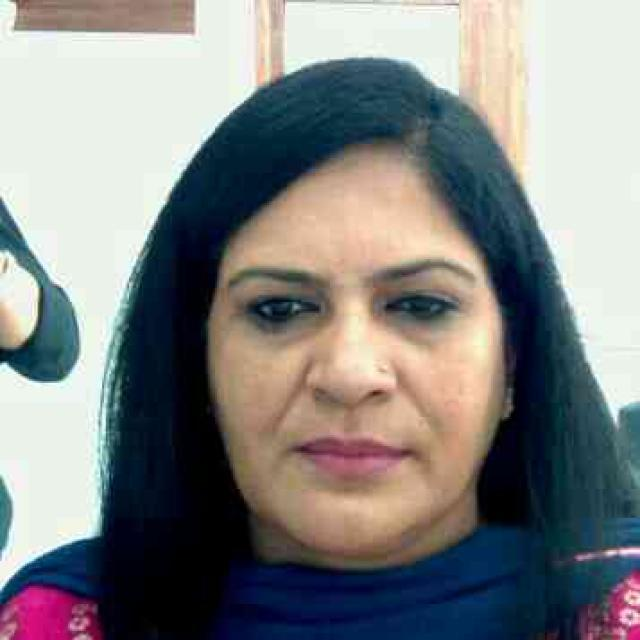puffy_eyes: (252, 297, 331, 341)
